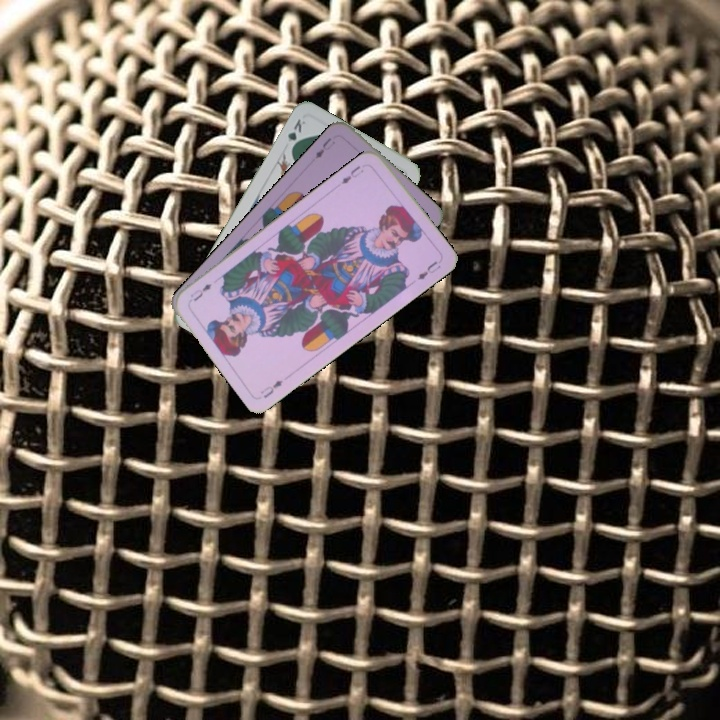EU: (311, 133, 338, 161), (337, 161, 366, 187), (256, 376, 286, 401)
GK: (284, 114, 308, 153)
